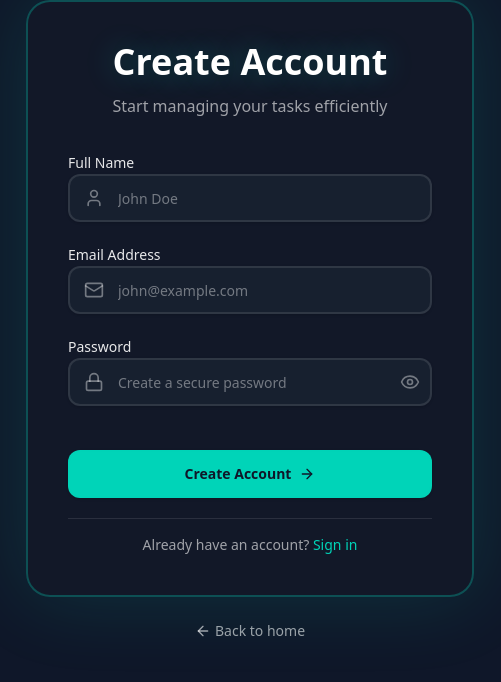
Test: Sign-Up Flow Integration Test › should validate email format
Type "invalid-email" into the field labelled "Email Address" at (250, 290), box [68,266,432,314]
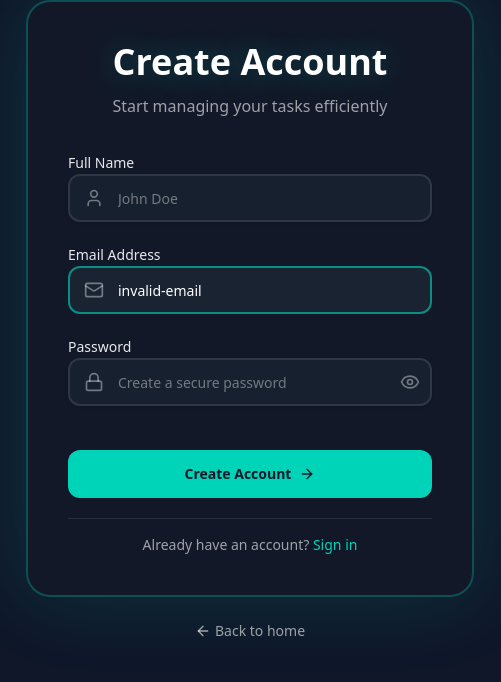
Press Tab
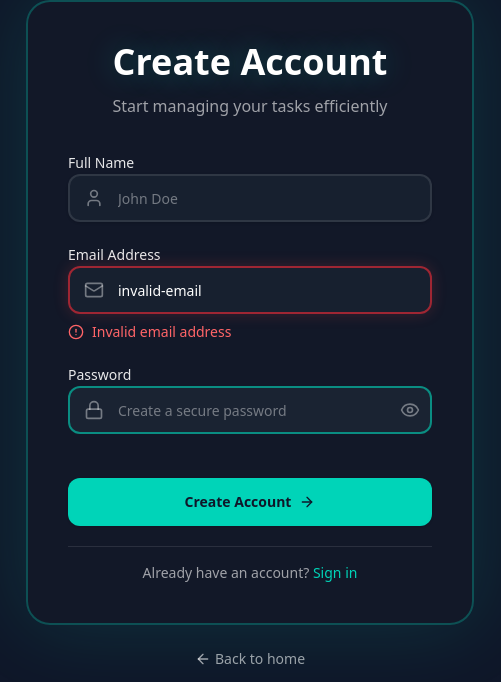
Check: the text "Invalid email address" is shown, box [92,322,231,342]
